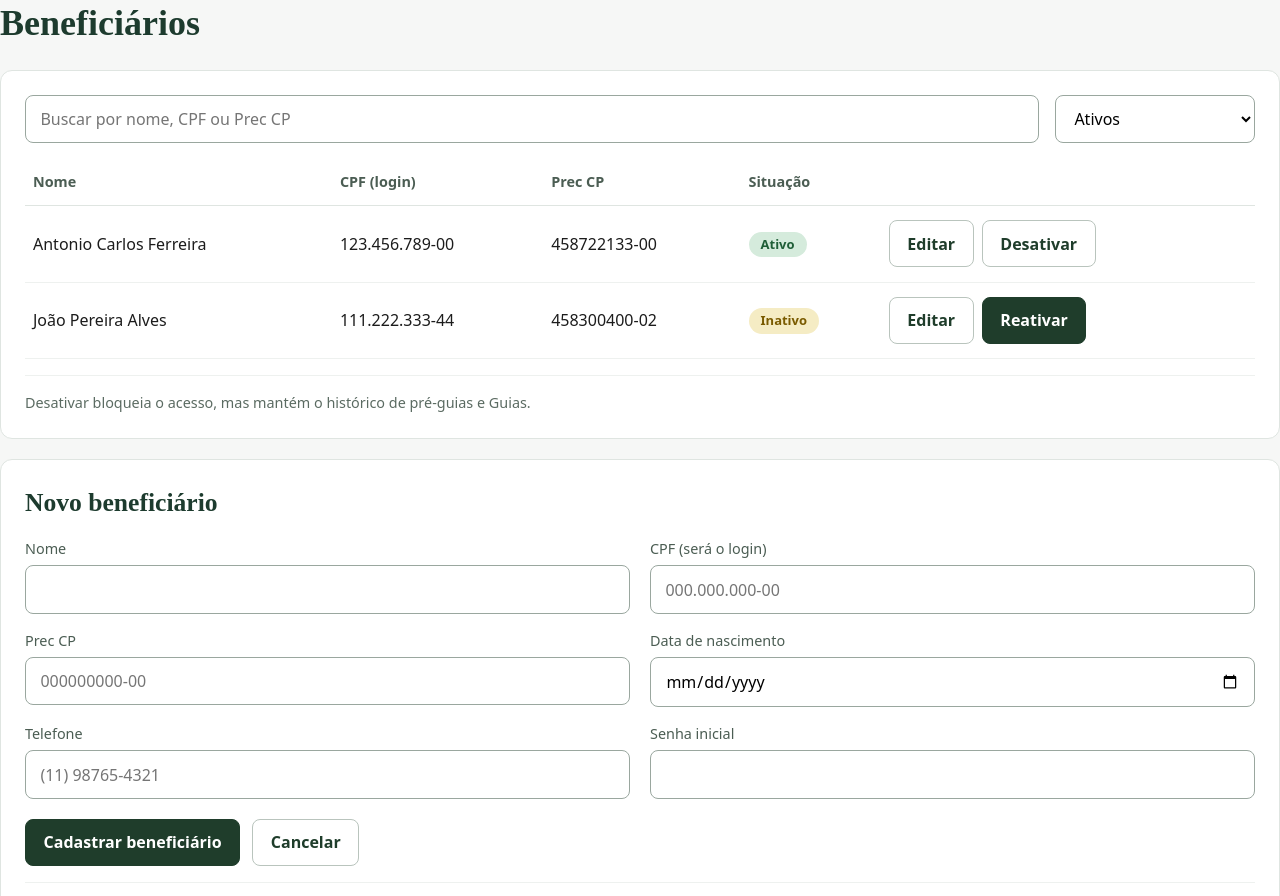
Test: T7-FE · Tela Beneficiários › abre o modo de edição e cancela voltando ao novo cadastro
This screenshot has width=1280, height=896.
Expected: the text "Antonio Carlos Ferreira" is shown, [25,206,332,282]
Click the button "Editar" in the row of "Antonio Carlos Ferreira": (931, 244) [889,220,974,267]
(page scrolled)
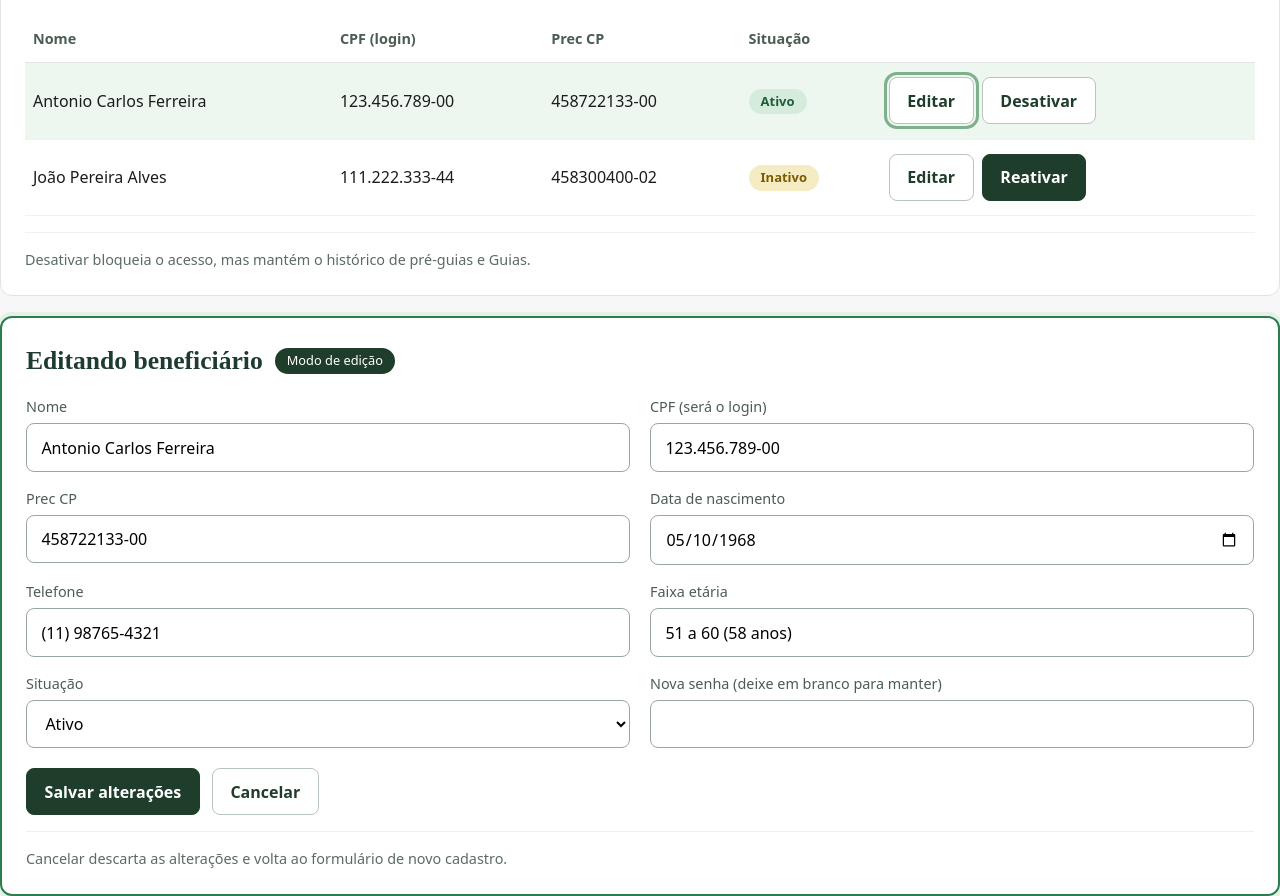
Result: the heading "Editando beneficiário" is shown at [26,342,263,380]
Result: the text "Modo de edição" is shown at [275,348,395,374]
Result: the field labelled "Nome" holds "Antonio Carlos Ferreira" at [26,423,630,472]
Click the button "Cancelar": (265, 792) [212,768,319,815]
(page scrolled)
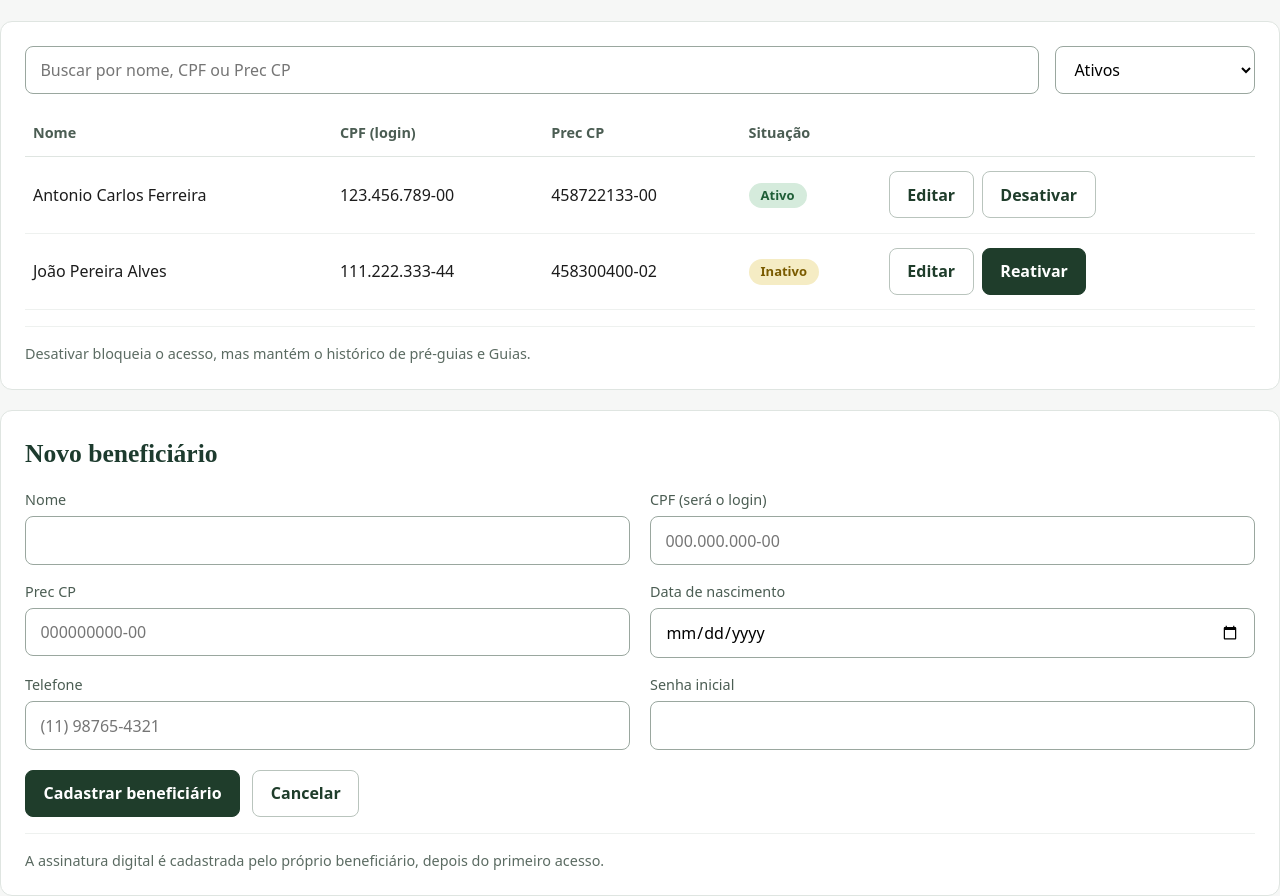
Result: the heading "Novo beneficiário" is shown at [25,435,218,473]
